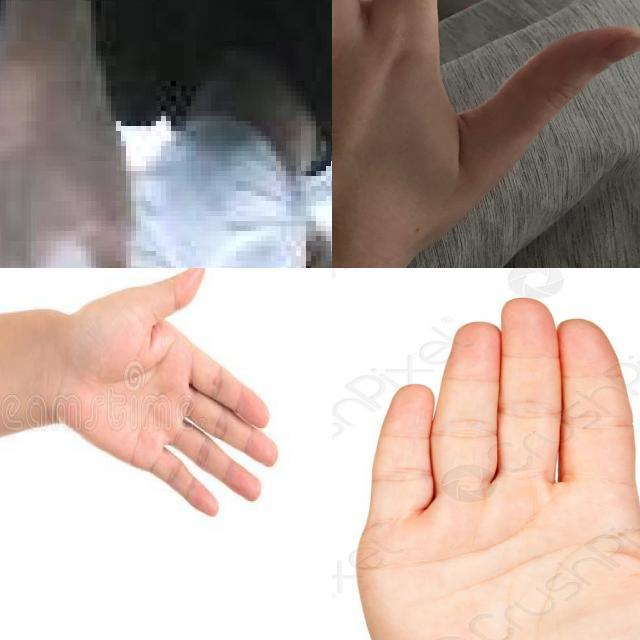no-gloves: (354, 298, 640, 640), (332, 0, 640, 268), (47, 268, 278, 518), (0, 51, 162, 268)
